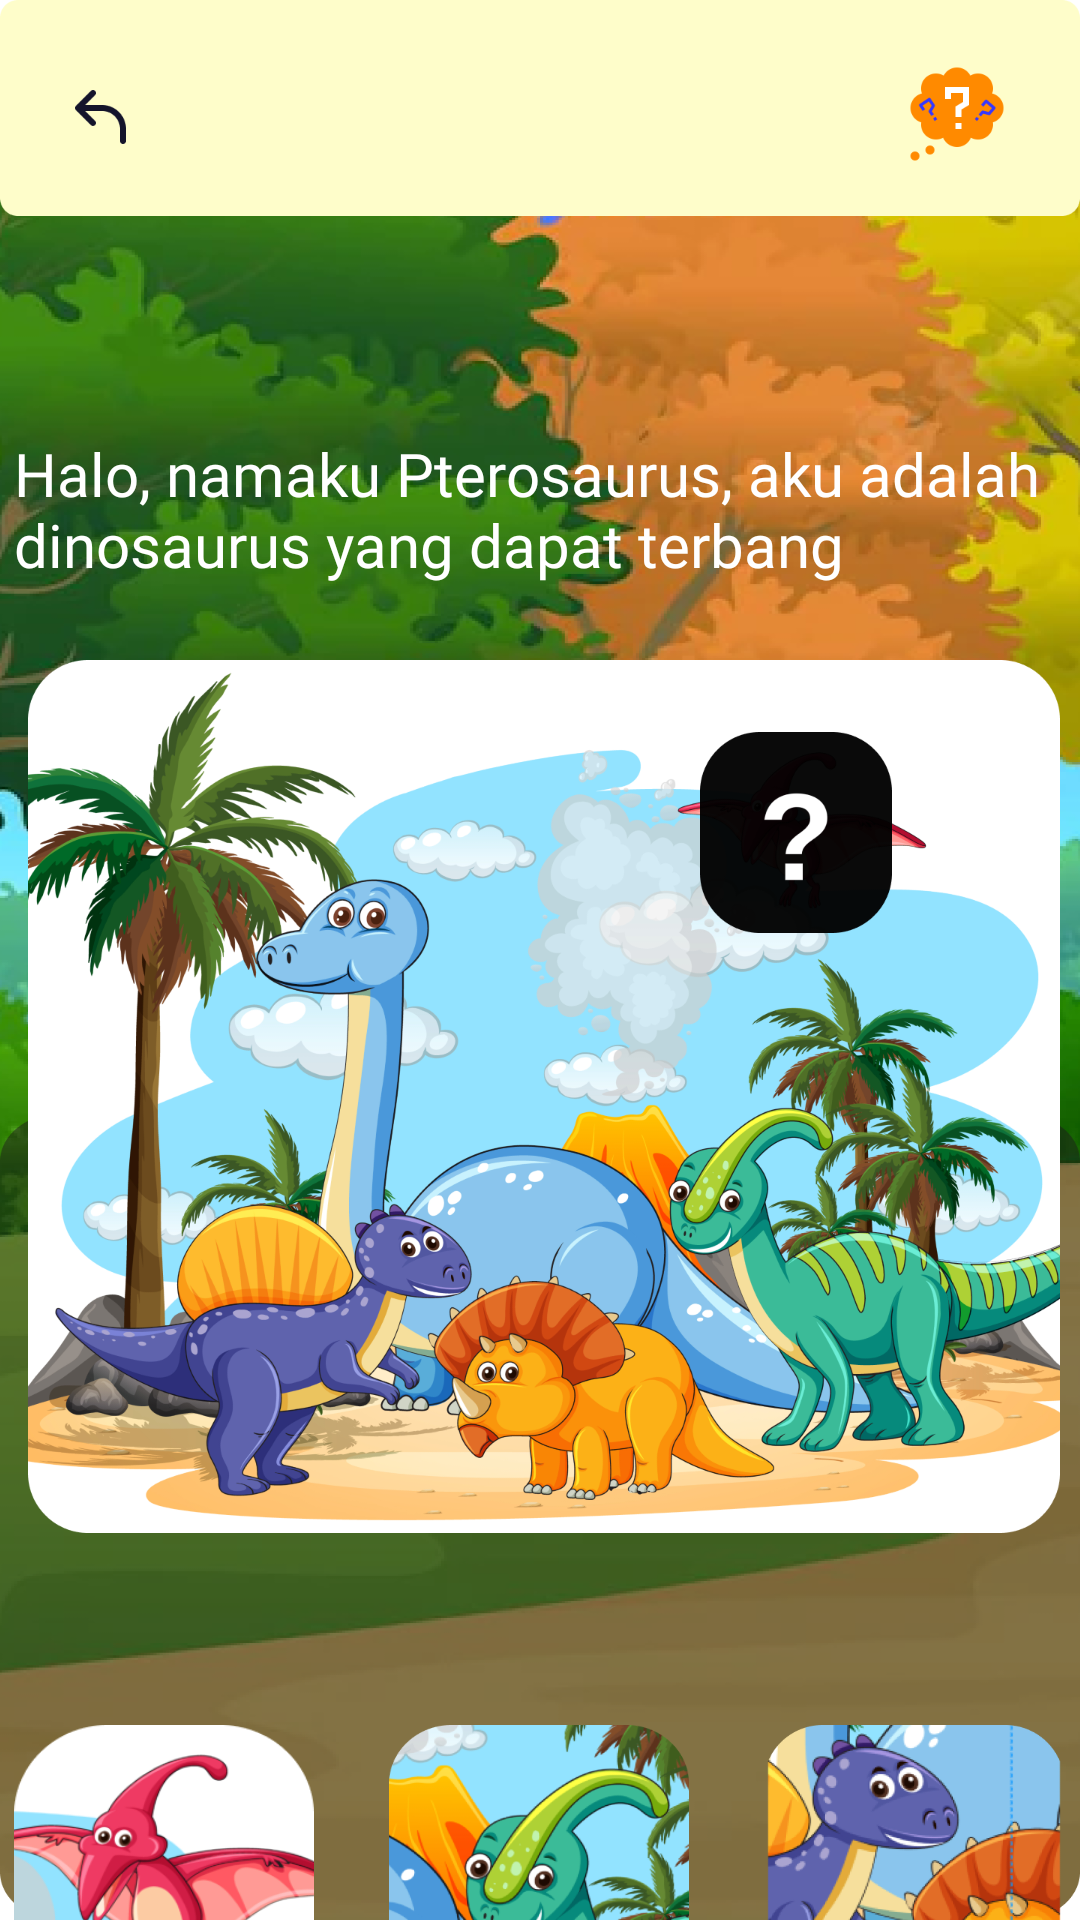

Screen size 1080 × 1920. Icon name, then its center in pixels as point (x, y):
back: point (100, 117)
help: point (957, 114)
